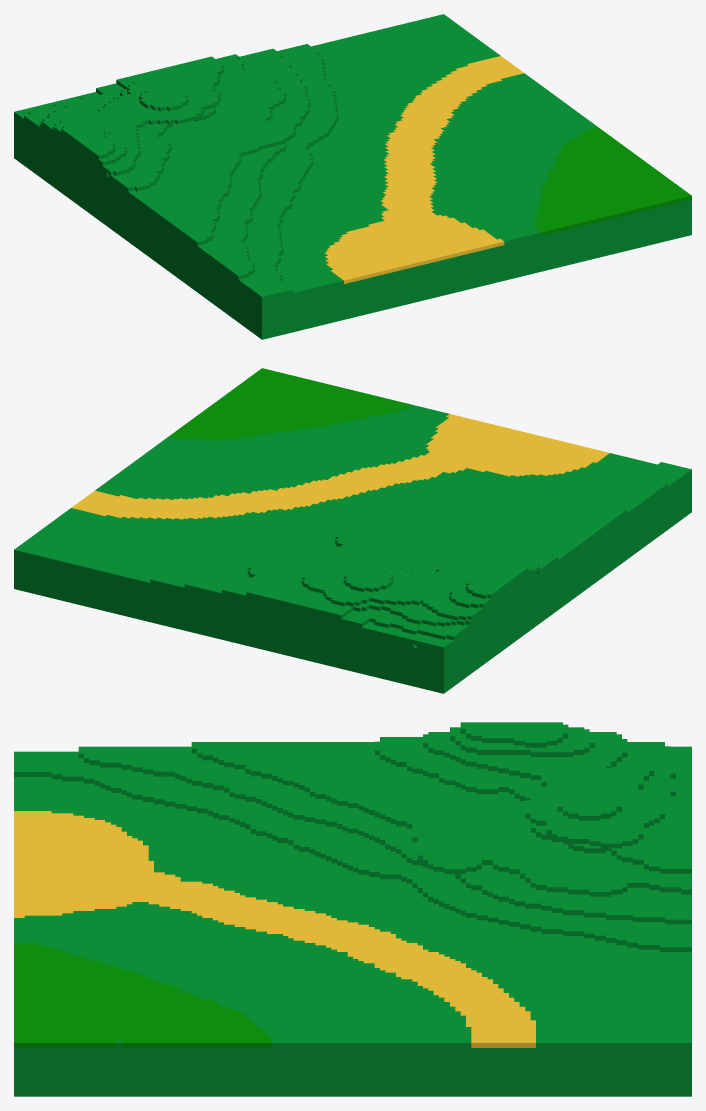
File: lvl_05.obj
The picture shows the model from 3 angles, top to bottom: view 1: azimuth 30°, elevation 25°; view 2: azimuth 150°, elevation 25°; view 3: azimuth 270°, elevation 25°; orthographic projection. The views are drawn at different scales.
Bounding box in the file's own units: 12.6 × 1.8 × 12.6.
Materials: 1 (1 with a texture image).
